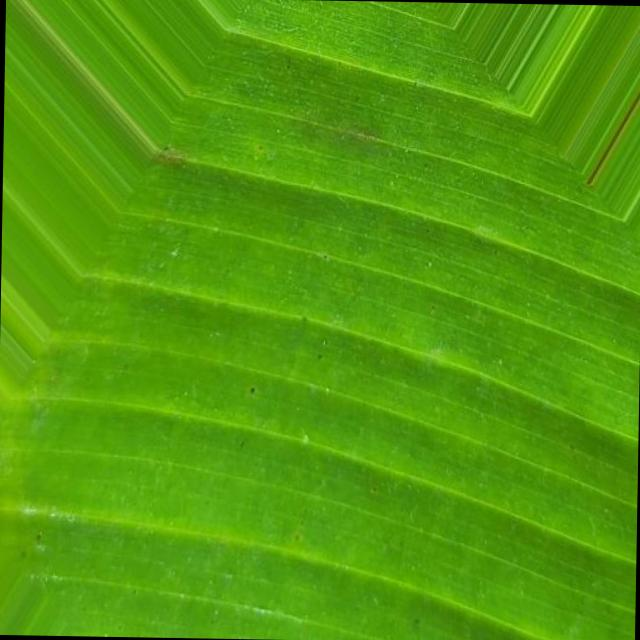Banana_Healthy: (153, 113, 541, 519)
